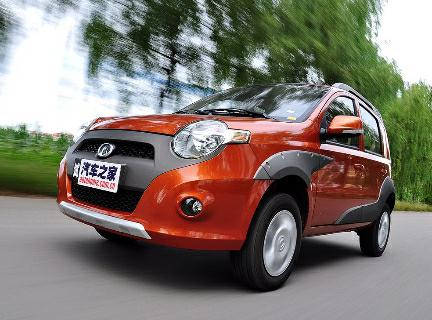长城-M1: (45, 76, 404, 295)
